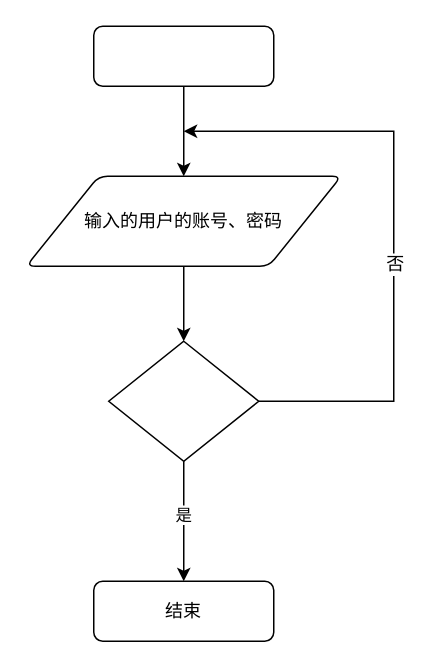
The diagram is 432 pixels wide and 668 high, and some of its shapes have lost their labels. The shapes that lost their labels are listed below. From the top down, each one's centre as x and y in pixels, then its label:
the point at 183,55: 开始
the point at 183,400: 判断是否一致
